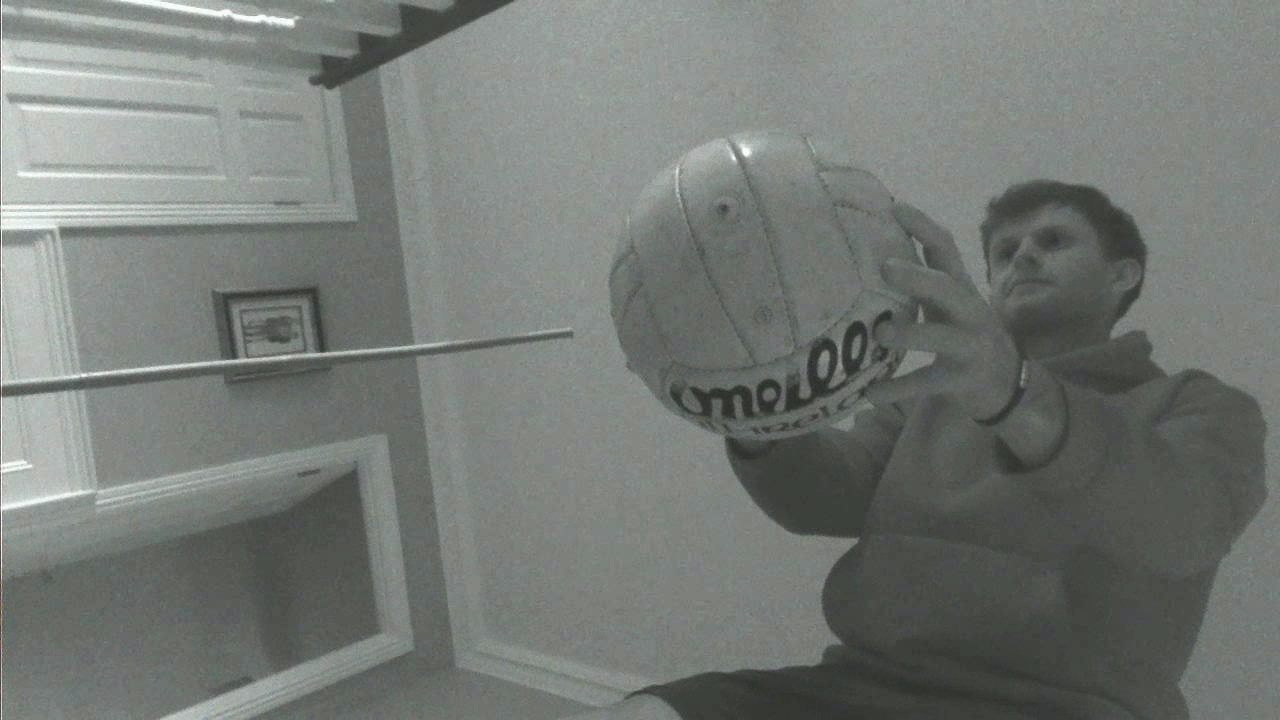Football-Spotter: (611, 133, 917, 436)
